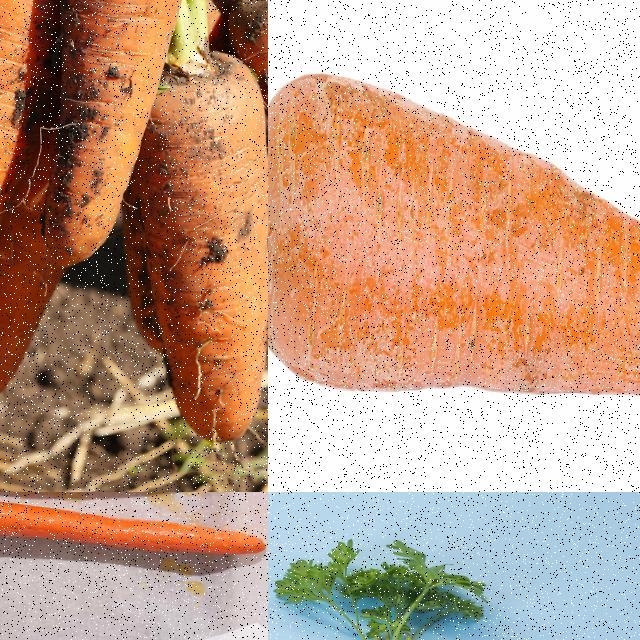carrot: (268, 49, 639, 436), (136, 45, 267, 441), (34, 0, 193, 273), (0, 0, 63, 387), (0, 71, 63, 410), (0, 492, 267, 560)
